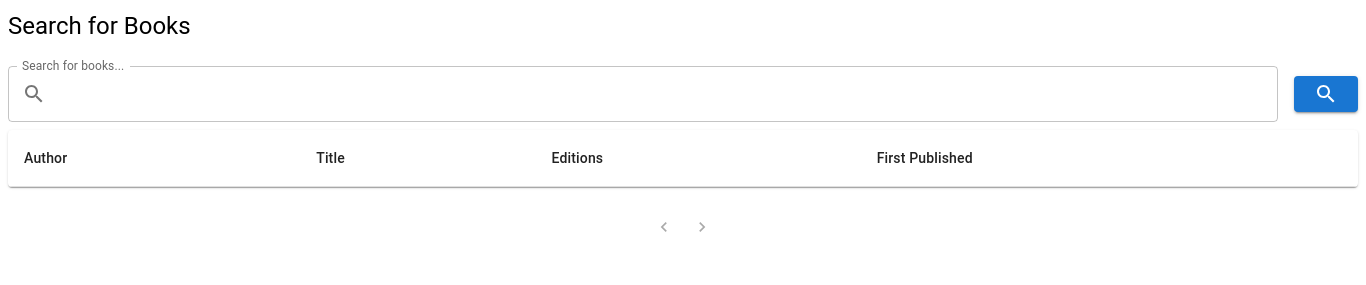
Scenario: SearchPage › handles API errors gracefully
Type "React" into the field labelled "Search for books..." at x=666, y=94, box [54, 66, 1278, 122]
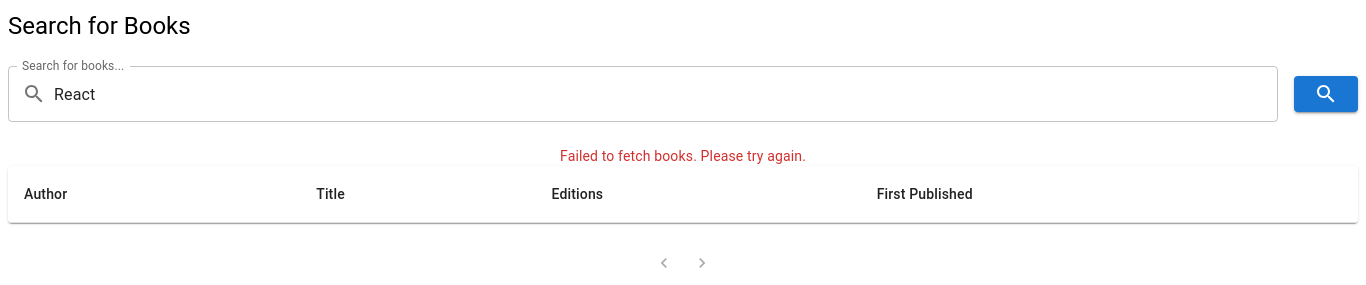
Expected: the text "Failed to fetch books. Please try again." is shown, [560, 148, 806, 164]
